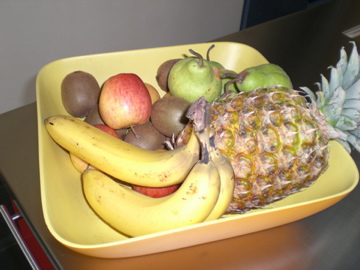pineapple: (176, 40, 359, 213)
